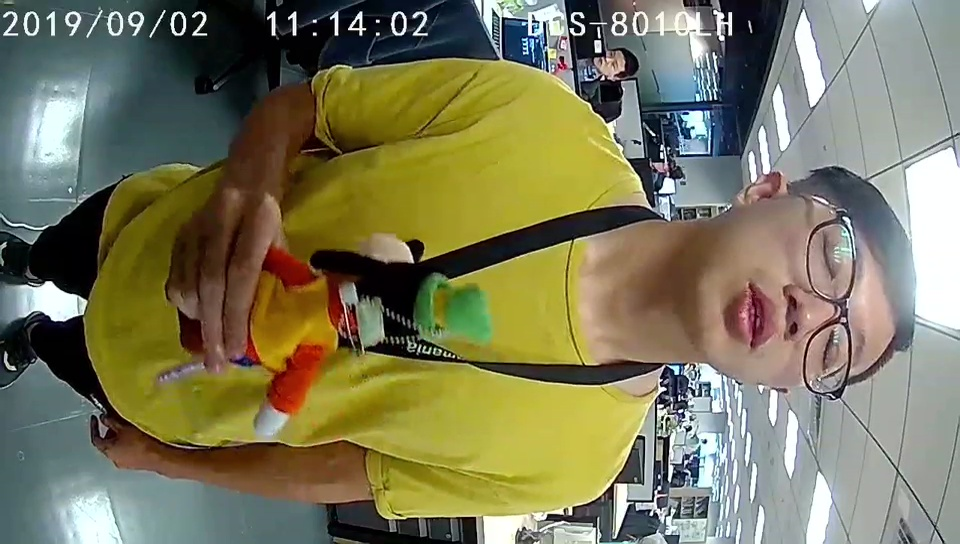goofy: (259, 251, 489, 437)
